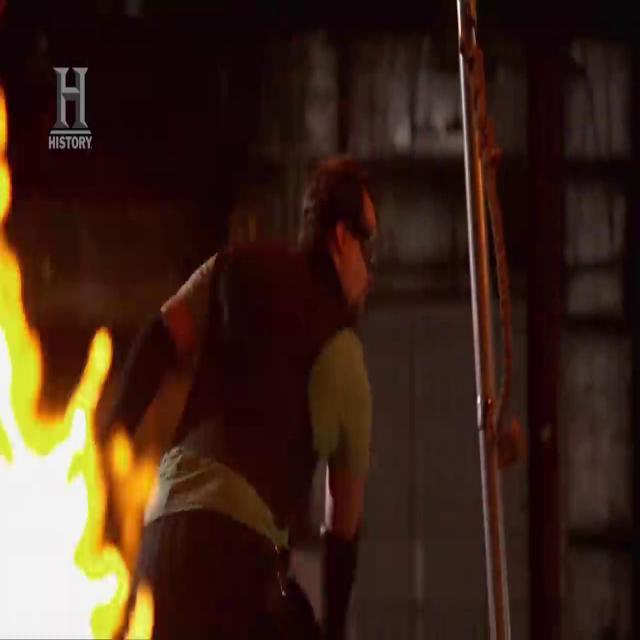Fire: (1, 90, 159, 640)
